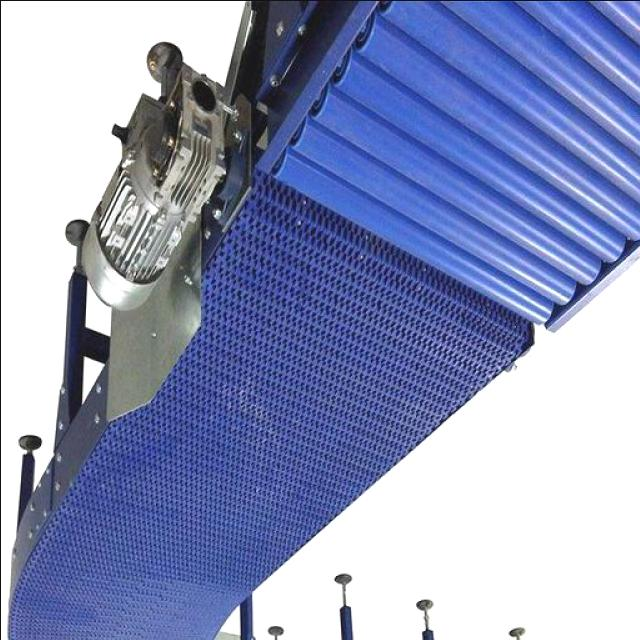conveyor: (7, 0, 640, 640)
